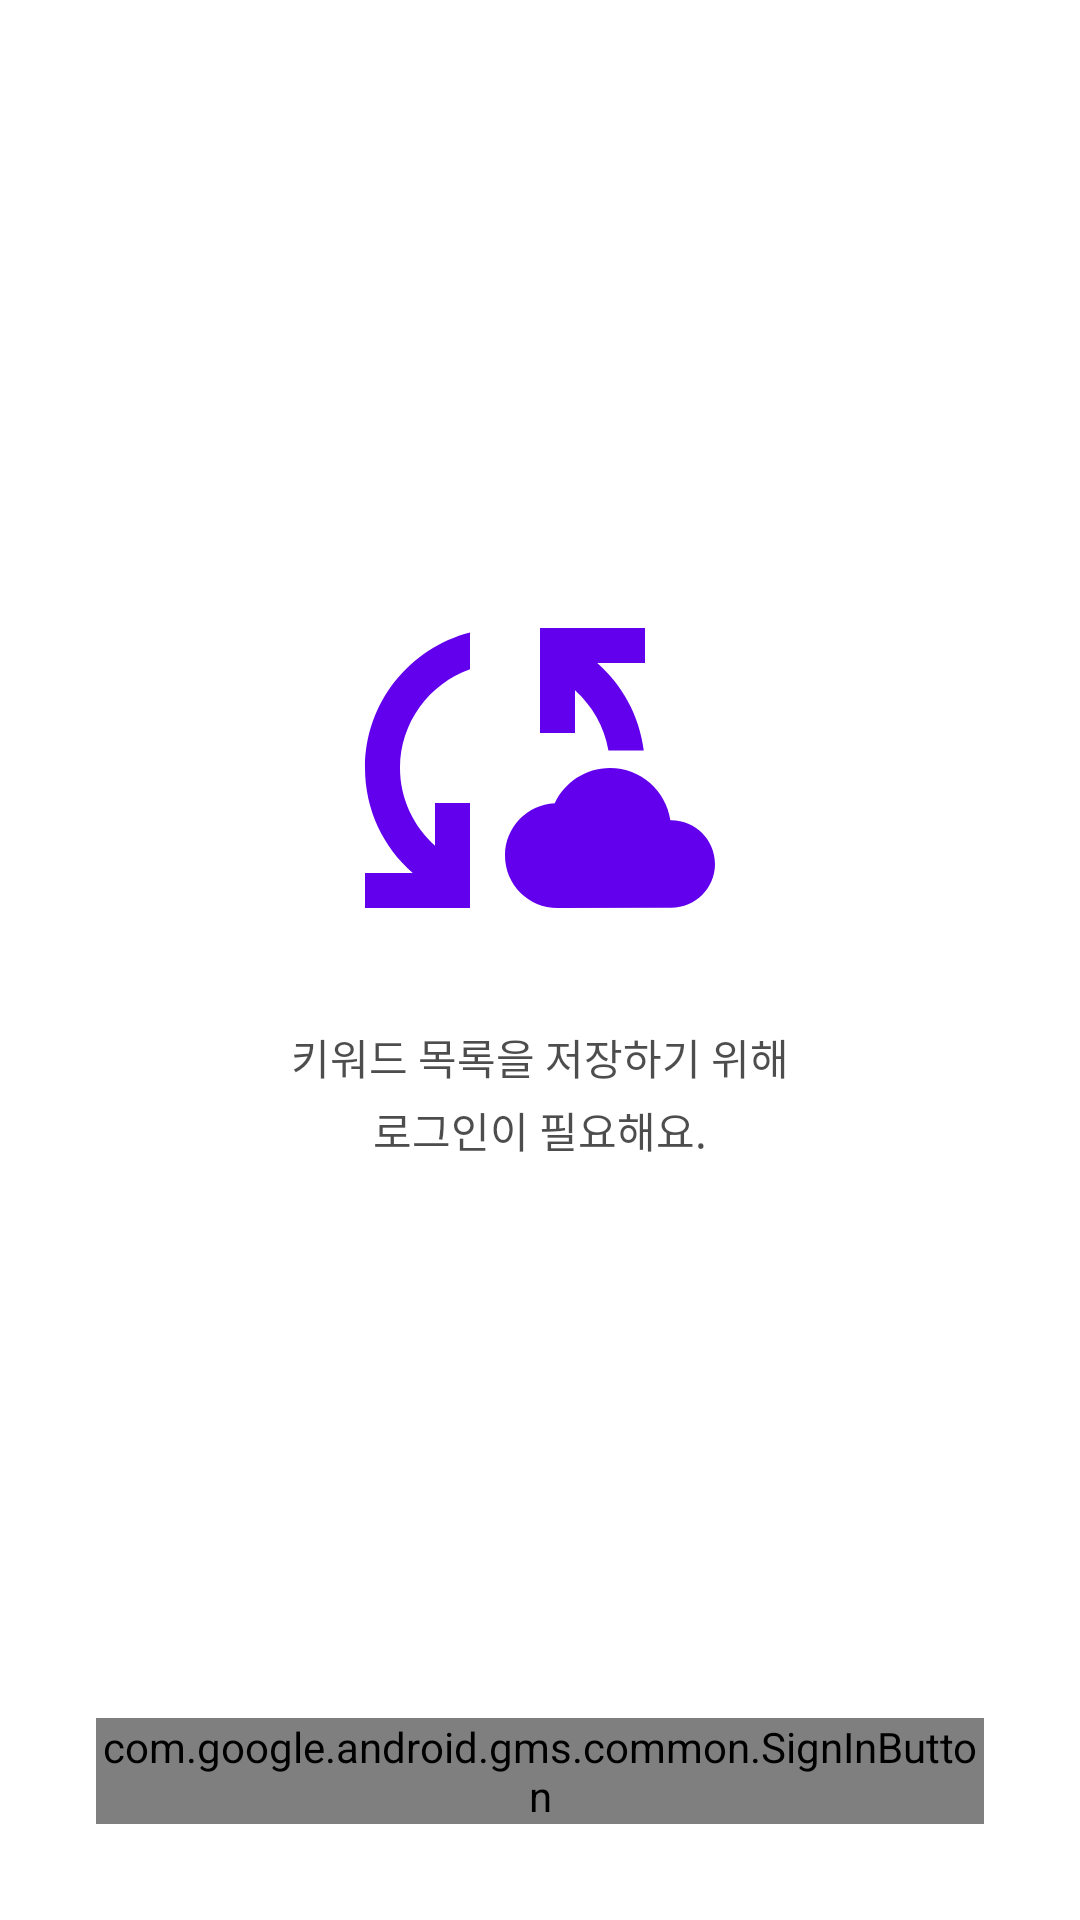

Screen size 1080×1920. Icon name, then its box in pixels as (x1, y1, x2, y2):
동기화 이미지: (365, 628, 715, 908)
